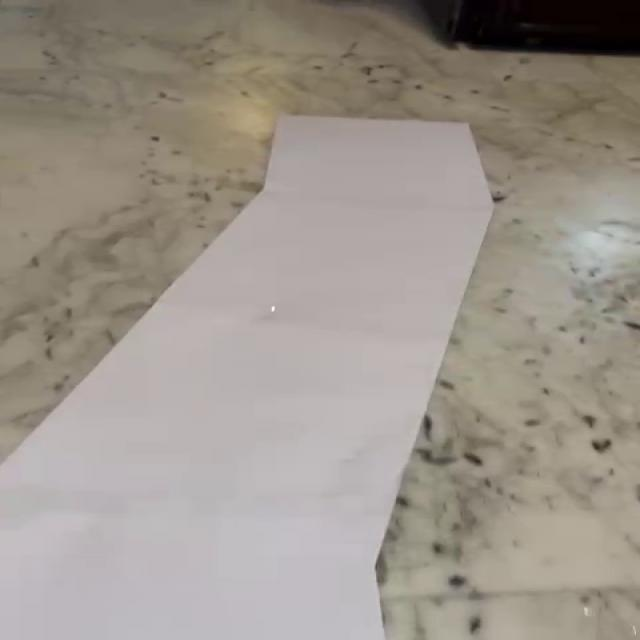road: (3, 115, 493, 640)
